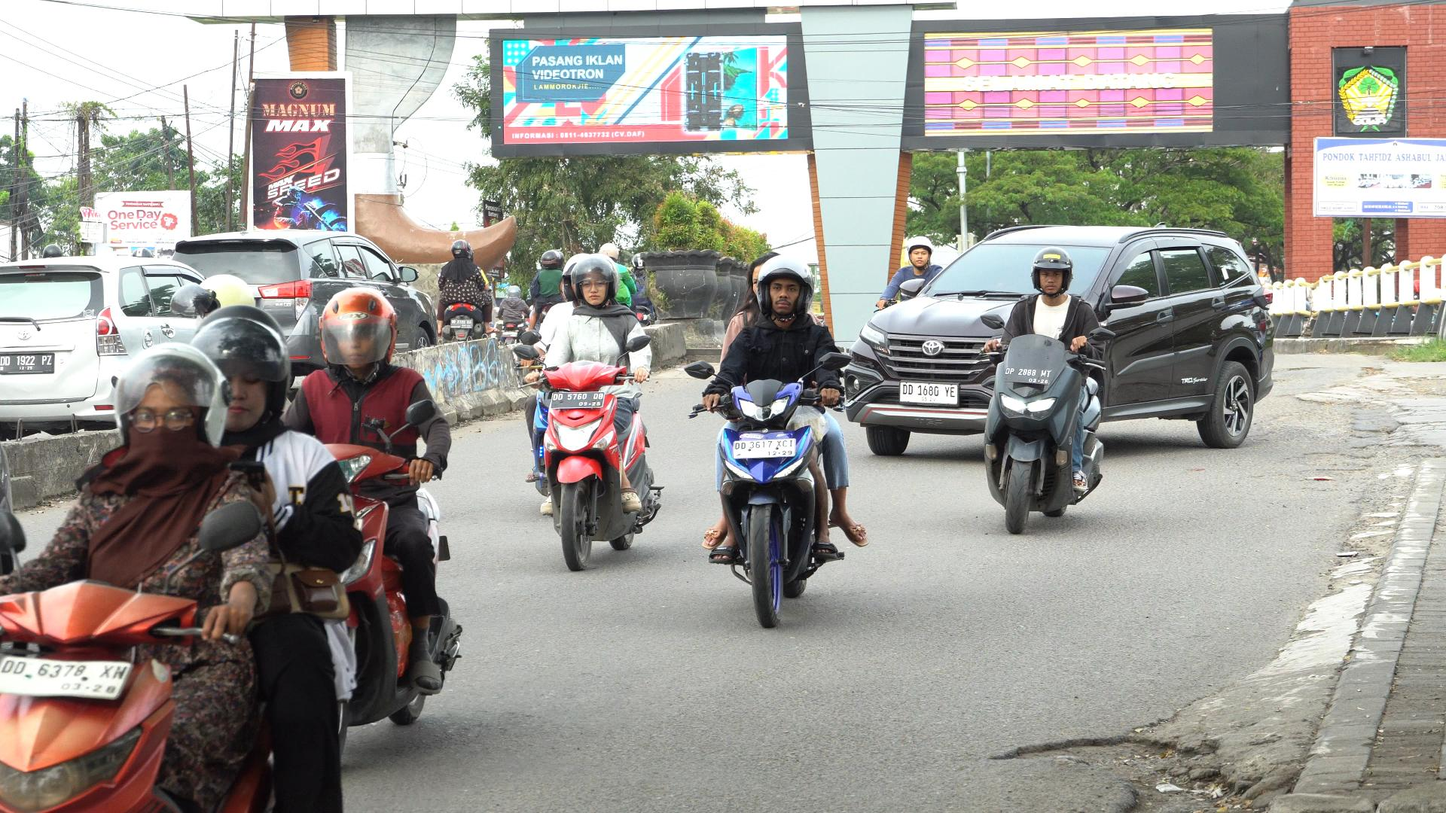number-plate: (728, 434, 797, 461), (547, 390, 604, 408), (1003, 366, 1050, 382)
